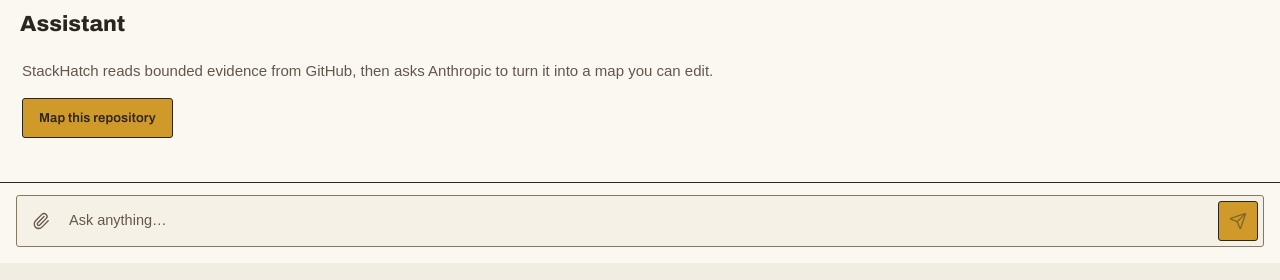
local-first ChatSidebar › does not generate when the scan fails
Click the button "Map this repository" at (97, 118), box [22, 98, 173, 138]
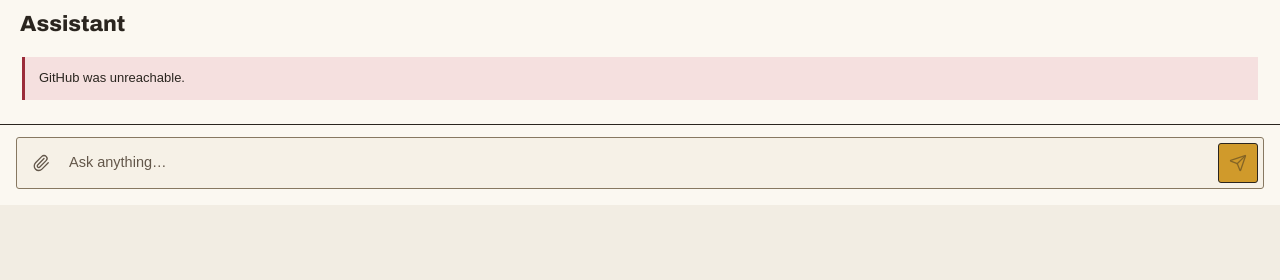
Now the text "GitHub was unreachable." is shown, box [39, 70, 185, 85]
